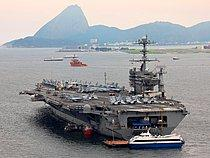MIL_Ship: (28, 46, 194, 142)
